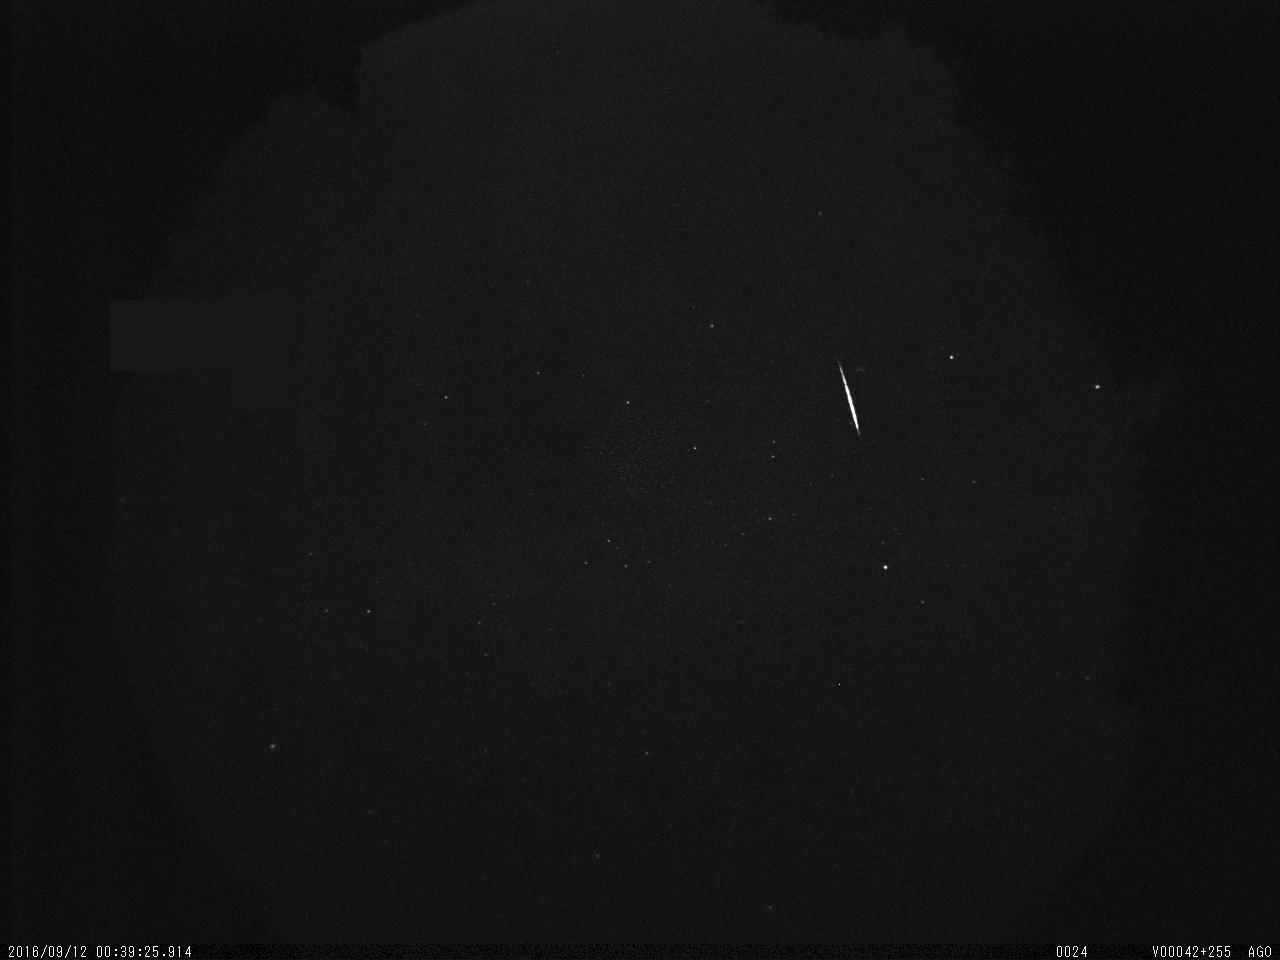Meteor: (835, 359, 862, 437)
